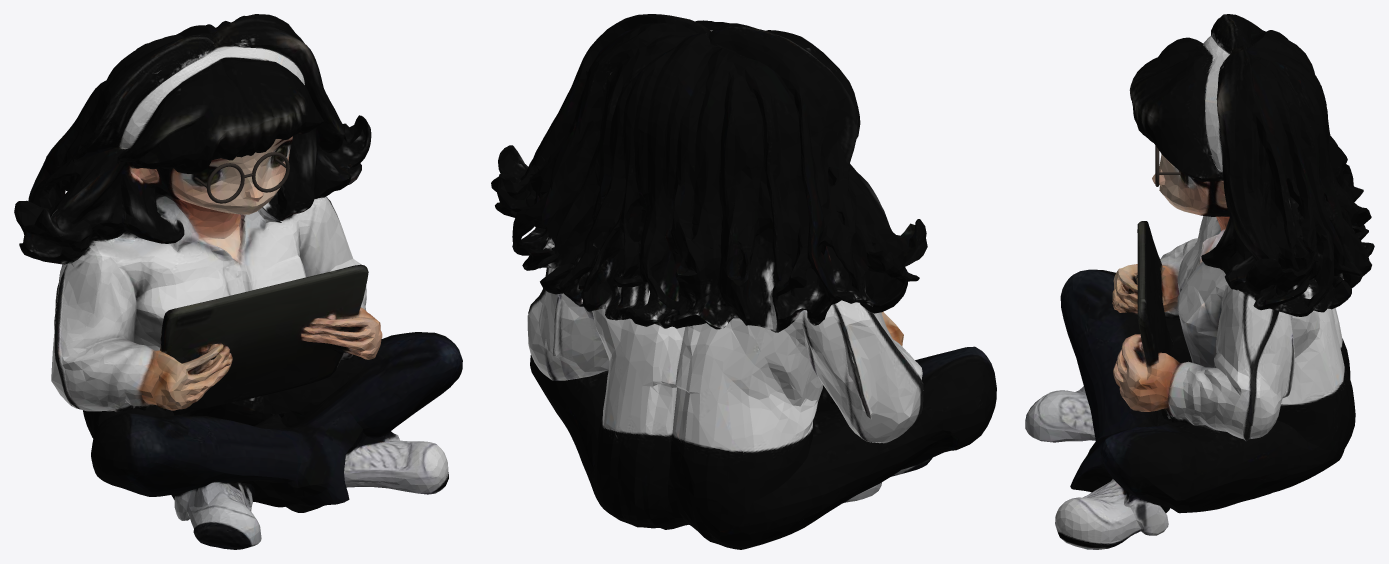
File: char_hermi.glb
The picture shows the model from 3 angles, left to right: view 1: azimuth 30°, elevation 25°; view 2: azimuth 150°, elevation 25°; view 3: azimuth 270°, elevation 25°; orthographic projection. The views are drawn at different scales.
Parts seen in each view (by area): view 1: char_hermi_model; view 2: char_hermi_model; view 3: char_hermi_model.
Boxes of the visible parts, x1,y1,x2,y2 form: char_hermi_model: [14, 14, 462, 549]; char_hermi_model: [491, 14, 996, 549]; char_hermi_model: [1025, 14, 1374, 549].
Bounding box in the file's own units: 0.9208 × 1.06 × 0.7347.
2 materials, 1 textured.
